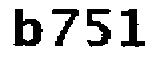1: (117, 8, 146, 53)
5: (84, 5, 114, 52)
7: (49, 5, 79, 50)
b: (9, 7, 43, 50)
